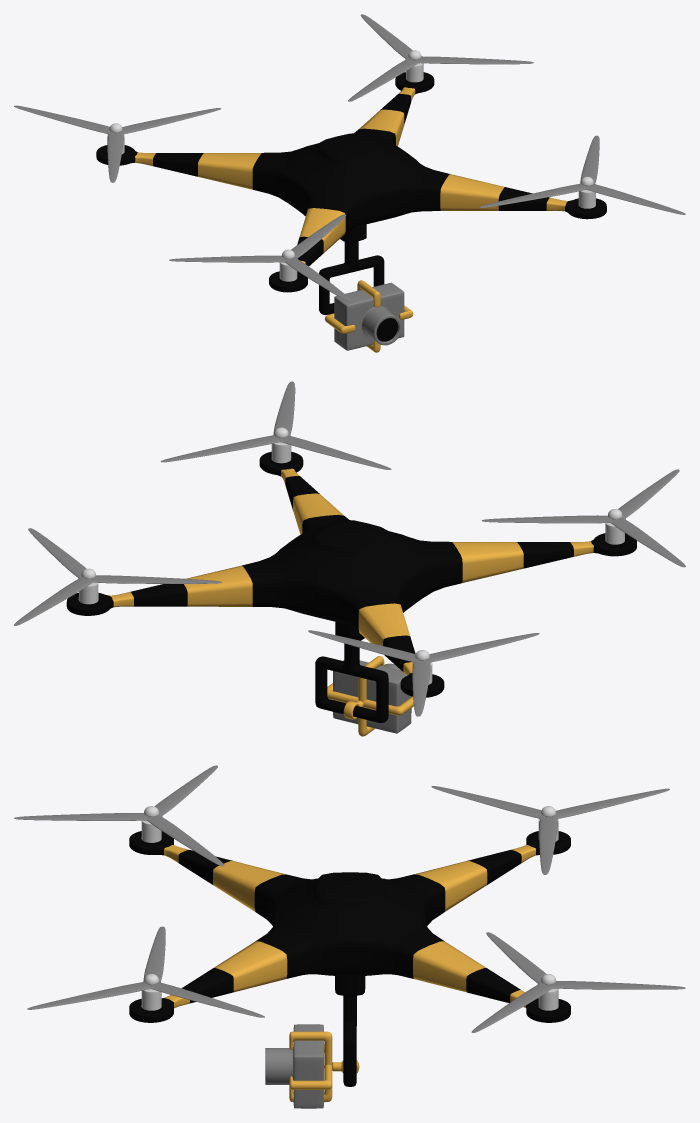
File: EnemyDrone.fbx
The picture shows the model from 3 angles, top to bottom: view 1: azimuth 30°, elevation 25°; view 2: azimuth 150°, elevation 25°; view 3: azimuth 270°, elevation 25°; orthographic projection. The views are drawn at different scales.
Visible parts, largest first — view 1: Drone, Camera, Propeller4, Propeller3, Propeller2, Propeller1, Handle; view 2: Drone, Propeller4, Propeller3, Propeller1, Propeller2, Camera, Handle; view 3: Drone, Camera, Propeller4, Propeller1, Propeller2, Propeller3, Handle.
Boxes of the visible parts, x1,y1,x2,y2 form: Drone: (96, 50, 606, 315); Camera: (334, 282, 404, 350); Propeller4: (14, 105, 221, 182); Propeller3: (169, 214, 351, 301); Propeller2: (348, 14, 533, 101); Propeller1: (479, 135, 685, 214); Handle: (325, 280, 413, 352); Drone: (66, 427, 636, 722); Propeller4: (308, 630, 539, 716); Propeller3: (482, 469, 685, 567); Propeller1: (160, 381, 391, 469); Propeller2: (14, 528, 221, 625); Camera: (333, 660, 411, 733); Handle: (327, 656, 413, 736); Drone: (129, 806, 570, 1086); Camera: (265, 1024, 323, 1108); Propeller4: (431, 786, 669, 874); Propeller1: (27, 926, 264, 1017); Propeller2: (471, 932, 685, 1032); Propeller3: (14, 765, 224, 866); Handle: (289, 1031, 359, 1102).
Size of the model in its own units: 837 by 316 by 888.
